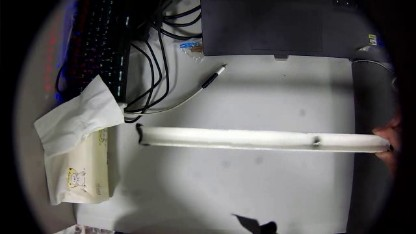gangzhu: (309, 137, 322, 146)
